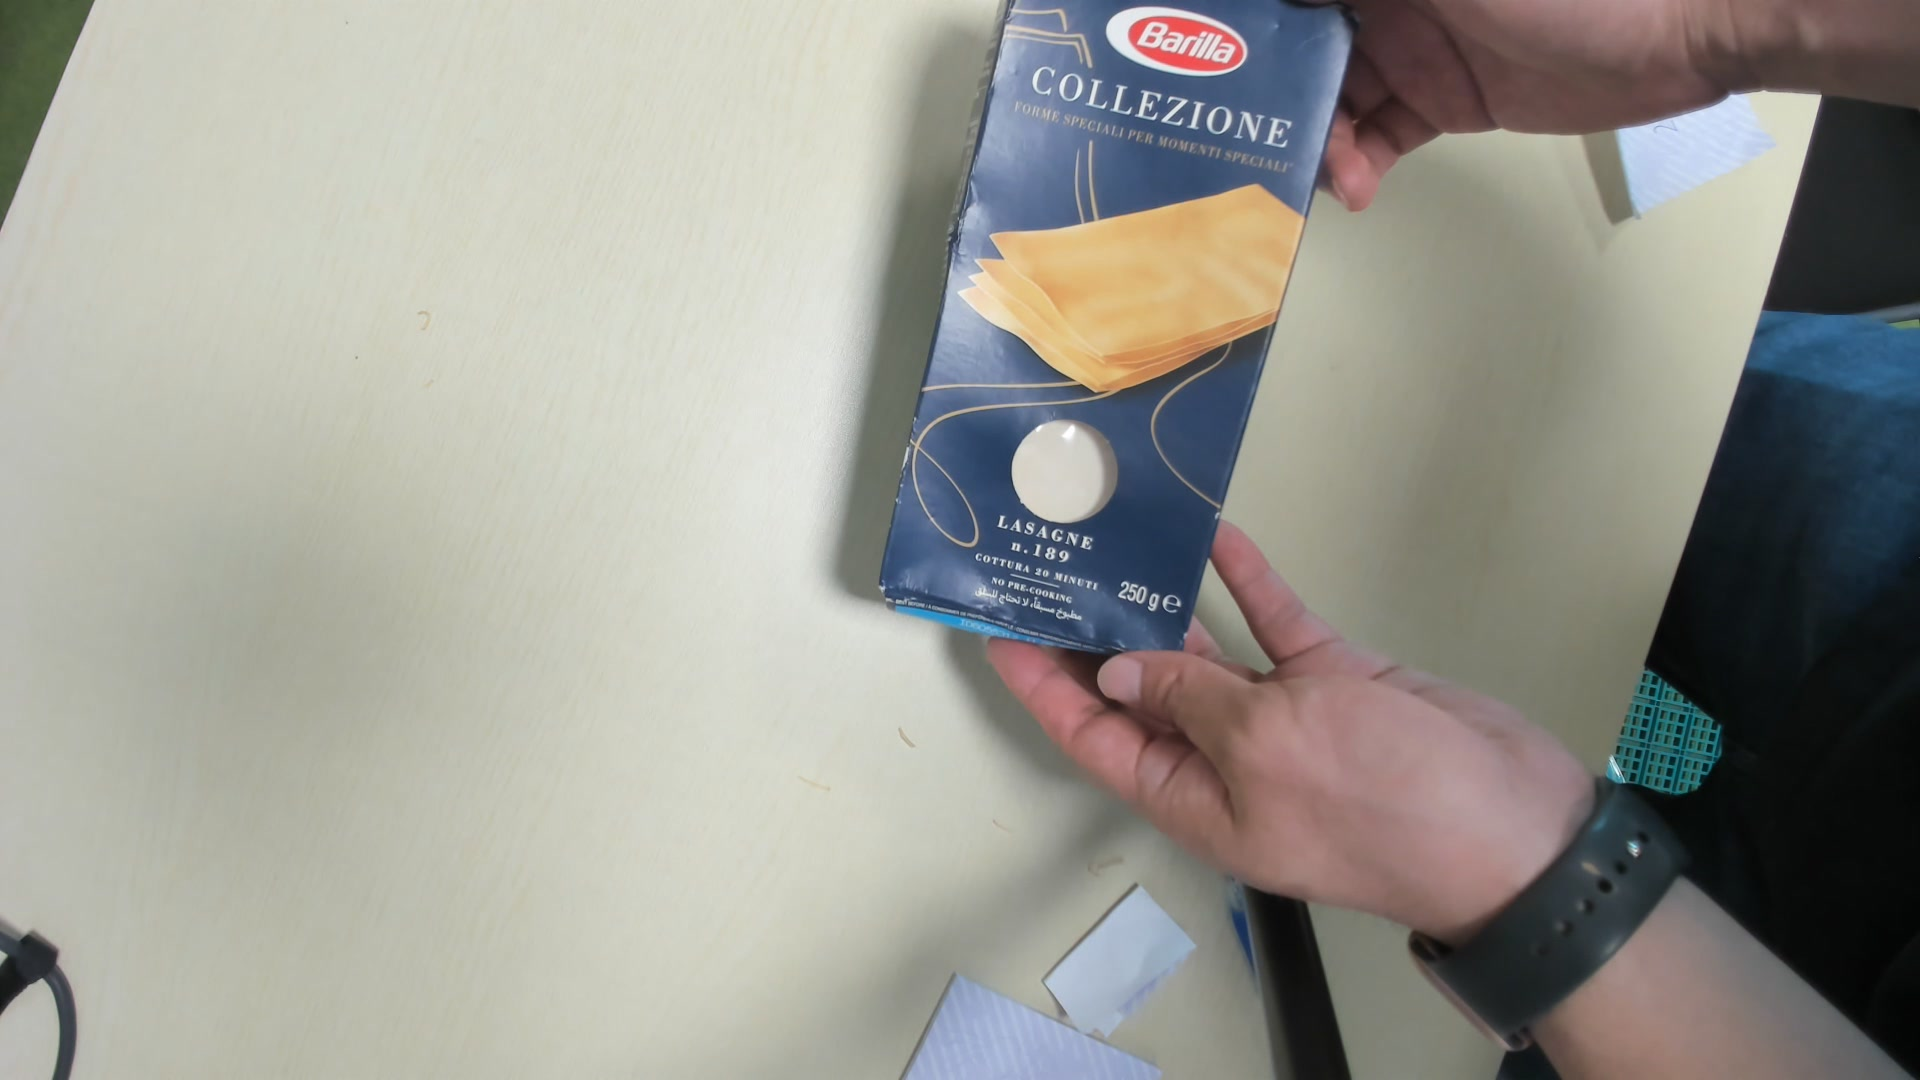InstantMeals_200_299g_NonHalal_NonHealthy: (876, 3, 1353, 666)
